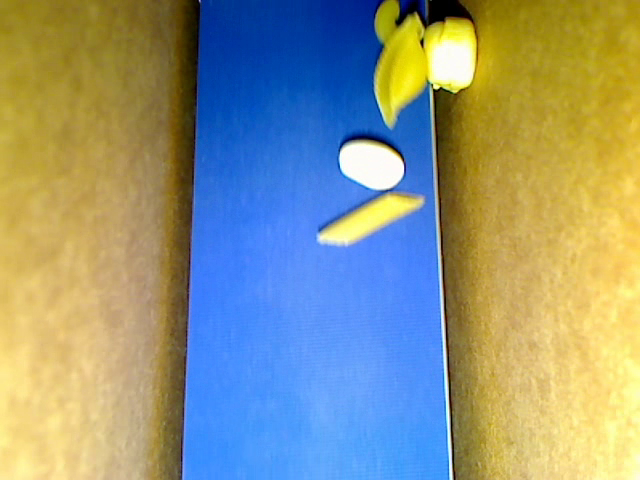elbow: (374, 1, 399, 45)
penne: (314, 193, 425, 244)
shell: (373, 15, 429, 128)
